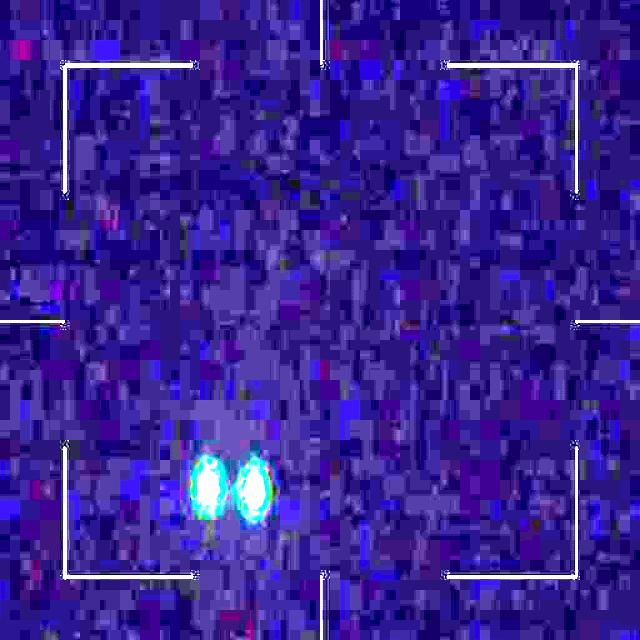bird: (196, 465, 266, 515)
